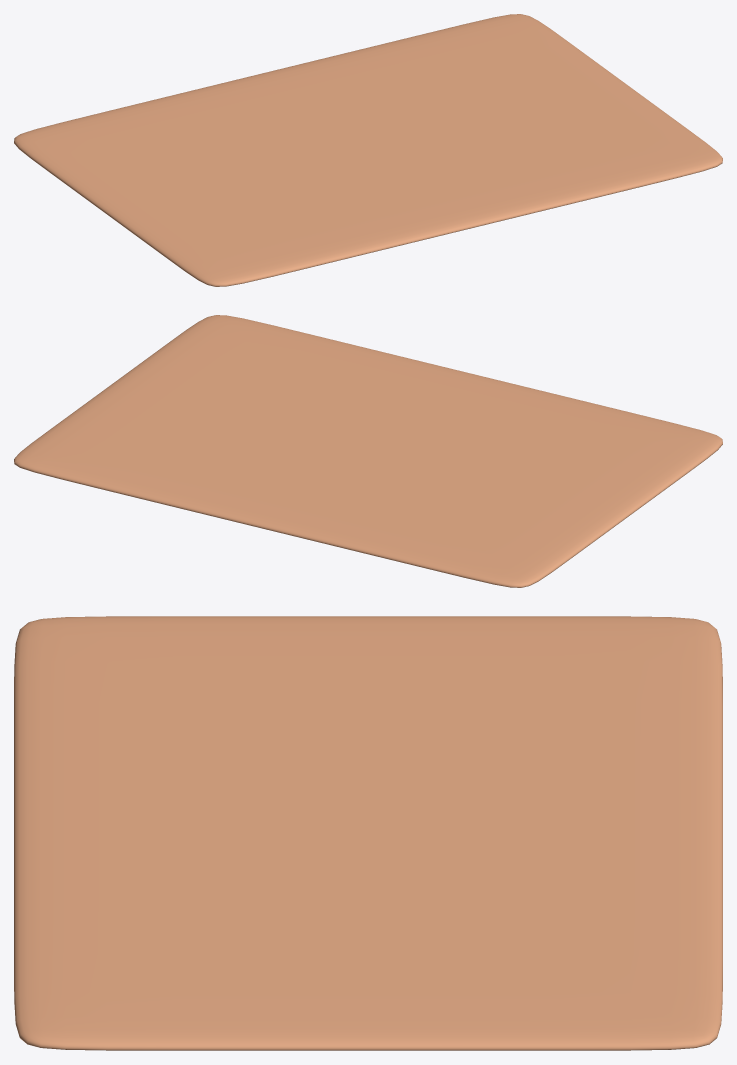
Rendered from Alfombra.fbx.
3 renders of one model, top to bottom at view 1: azimuth 30°, elevation 25°; view 2: azimuth 150°, elevation 25°; view 3: azimuth 270°, elevation 25°, orthographic. The views are drawn at different scales.
Parts seen in each view (by area): view 1: Alfombra; view 2: Alfombra; view 3: Alfombra.
Part boxes in pixels (x1,y1,x2,y2): Alfombra: (14,14,722,286); Alfombra: (14,315,722,587); Alfombra: (14,616,722,1050).
Size of the model in its own units: 25.53 by 0.2416 by 17.74.
